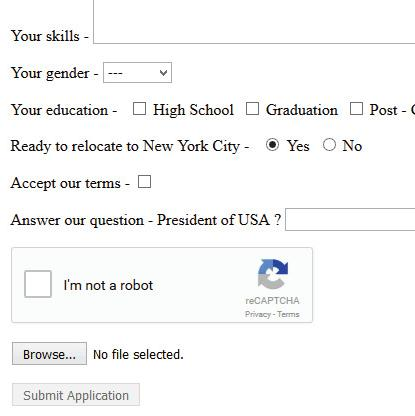button: (9, 381, 145, 408), (11, 338, 91, 367)
checkbox: (22, 267, 55, 302), (136, 173, 154, 193), (348, 99, 365, 118), (132, 99, 149, 116), (244, 100, 261, 117)
checkbox_with_label: (18, 264, 155, 304), (12, 170, 156, 195), (129, 97, 235, 120), (241, 97, 337, 118)
field: (101, 61, 174, 83)
field_with_label: (10, 60, 177, 85)
radio: (264, 136, 282, 153), (321, 136, 335, 152)
radio_with_label: (260, 134, 310, 154), (320, 133, 364, 154)
